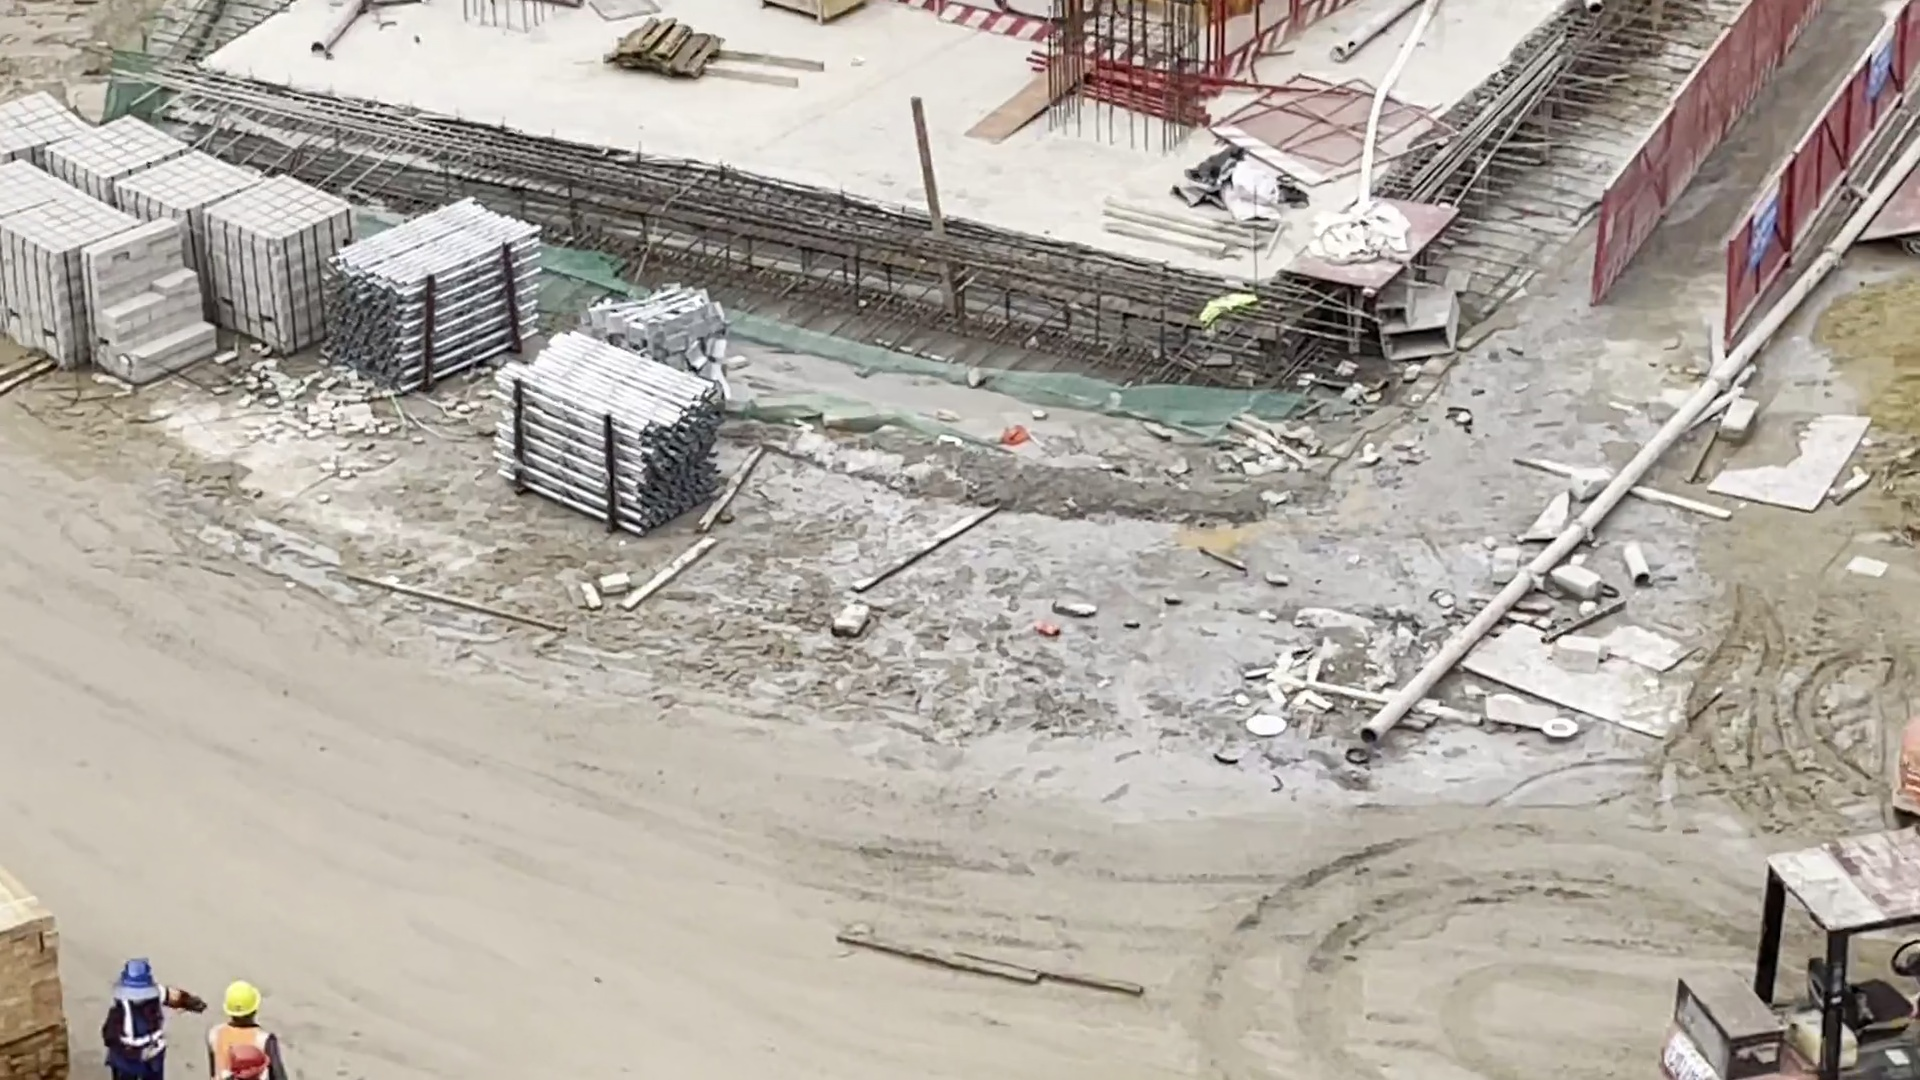brick: (2, 87, 353, 395)
fence: (1577, 1, 1920, 374)
helmet: (105, 958, 163, 1007), (209, 987, 277, 1016)
person: (94, 949, 203, 1080), (194, 976, 318, 1080)
scaffold: (487, 334, 725, 561), (319, 196, 540, 388)
slogan: (1730, 178, 1810, 278), (1852, 24, 1908, 127)
vest: (92, 1003, 190, 1080), (194, 1018, 288, 1080)
wood: (2, 845, 83, 1080)
